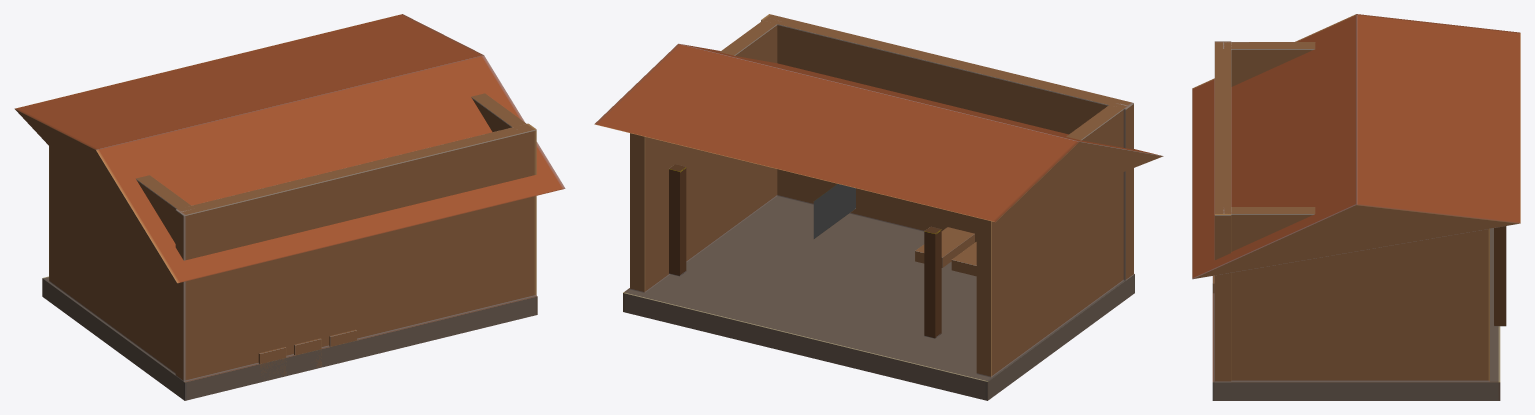
Rendered from LumberMill.fbx.
3 views of the same model, side by side, from view 1: azimuth 30°, elevation 25°; view 2: azimuth 150°, elevation 25°; view 3: azimuth 270°, elevation 25° (orthographic). The views are drawn at different scales.
Parts seen in each view (by area): view 1: LumberMill; view 2: LumberMill; view 3: LumberMill.
Boxes of the visible parts, bbox=[...] form: LumberMill: bbox=[14, 14, 565, 400]; LumberMill: bbox=[594, 14, 1163, 400]; LumberMill: bbox=[1192, 14, 1520, 400].
Size of the model in its own units: 220 by 110 by 160.
Materials: 1 (1 with a texture image).
